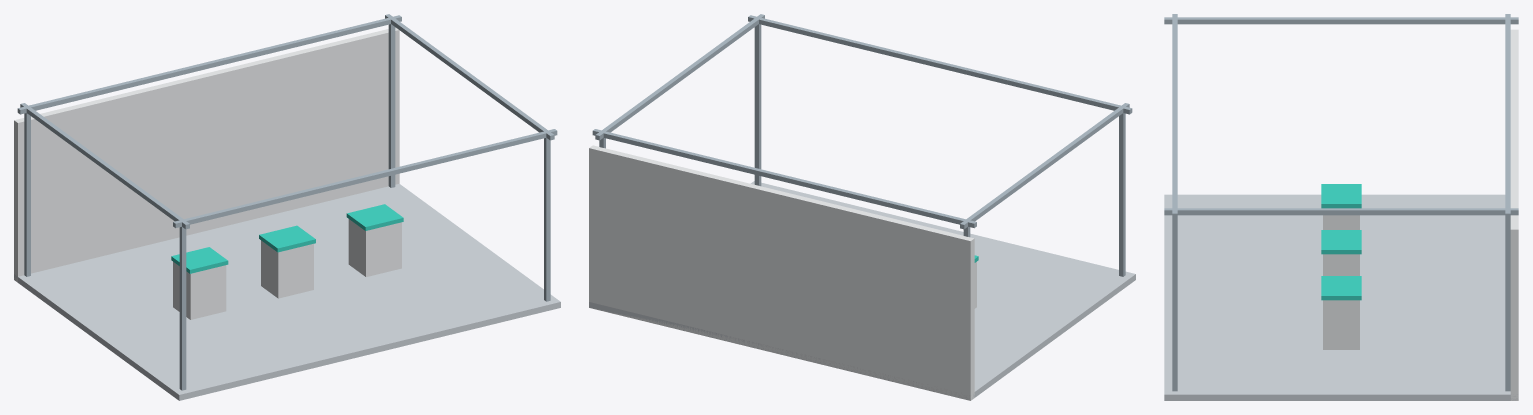
3 views of the same model, side by side, from view 1: azimuth 30°, elevation 25°; view 2: azimuth 150°, elevation 25°; view 3: azimuth 270°, elevation 25° (orthographic). The views are drawn at different scales.
Visible parts, largest first — view 1: Exhibition Booth Concept; view 2: Exhibition Booth Concept; view 3: Exhibition Booth Concept.
Boxes of the visible parts, x1,y1,x2,y2 form: Exhibition Booth Concept: [14, 14, 560, 400]; Exhibition Booth Concept: [589, 14, 1135, 400]; Exhibition Booth Concept: [1164, 14, 1518, 400].
Bounding box in the file's own units: 8 × 3.49 × 6.
